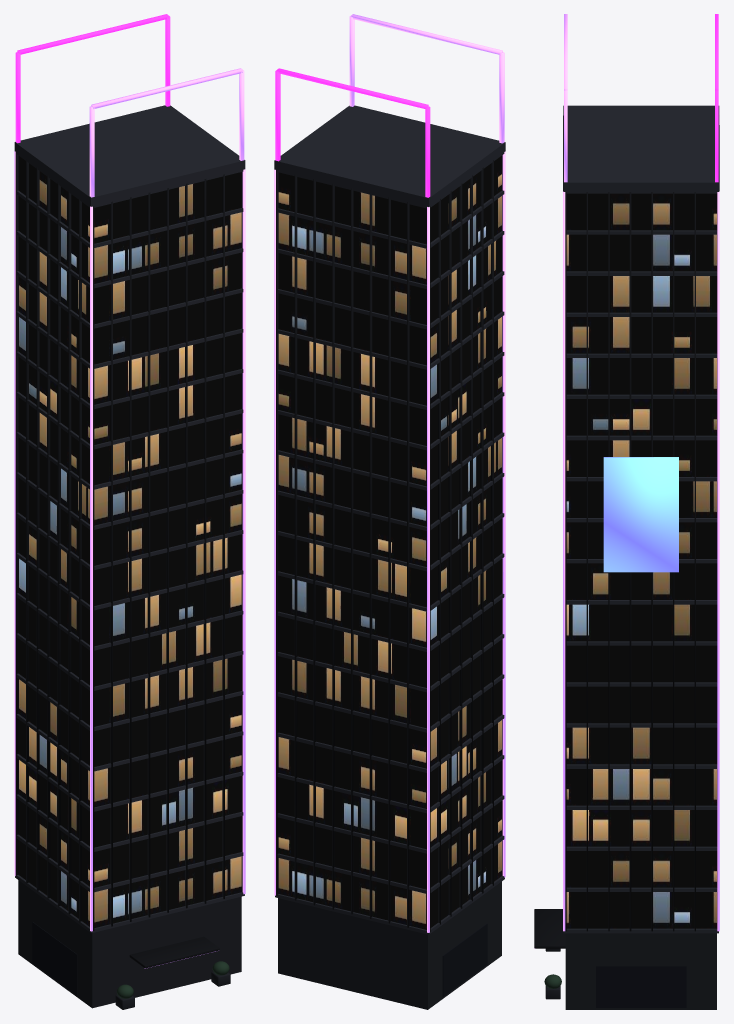
The model's file is neon-tower-c.glb.
The picture shows the model from 3 angles, left to right: view 1: azimuth 30°, elevation 25°; view 2: azimuth 150°, elevation 25°; view 3: azimuth 270°, elevation 25°; orthographic projection. The views are drawn at different scales.
Visible parts, largest first — view 1: Building; view 2: Building; view 3: Building.
Boxes of the visible parts, x1,y1,x2,y2 form: Building: (14, 14, 245, 1009); Building: (274, 14, 505, 1009); Building: (534, 14, 719, 1009).
Size of the model in its own units: 14.67 by 80.75 by 14.72.
Materials: 9 (1 with a texture image).
